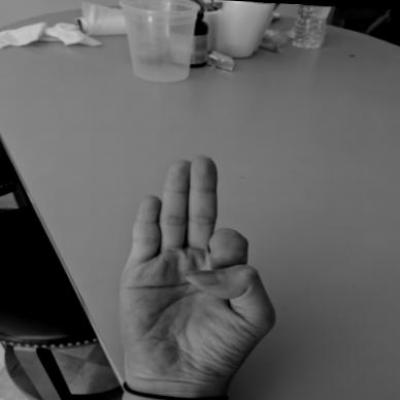hand: (111, 145, 287, 399)
